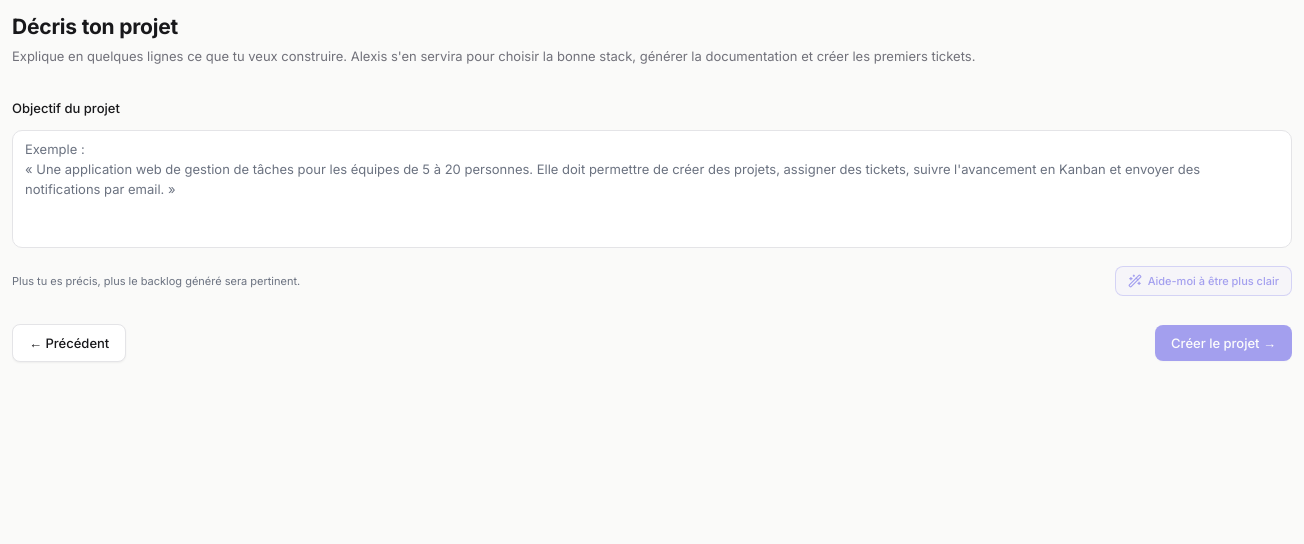
Test: DescriptionPage — bouton Aide-moi à être plus clair › 'Utiliser ce brief' copie dans le textarea et ferme la carte
Step 1. Replace the text in the text box with "une app" → x=652, y=189, box left=12, top=130, right=1292, bottom=248
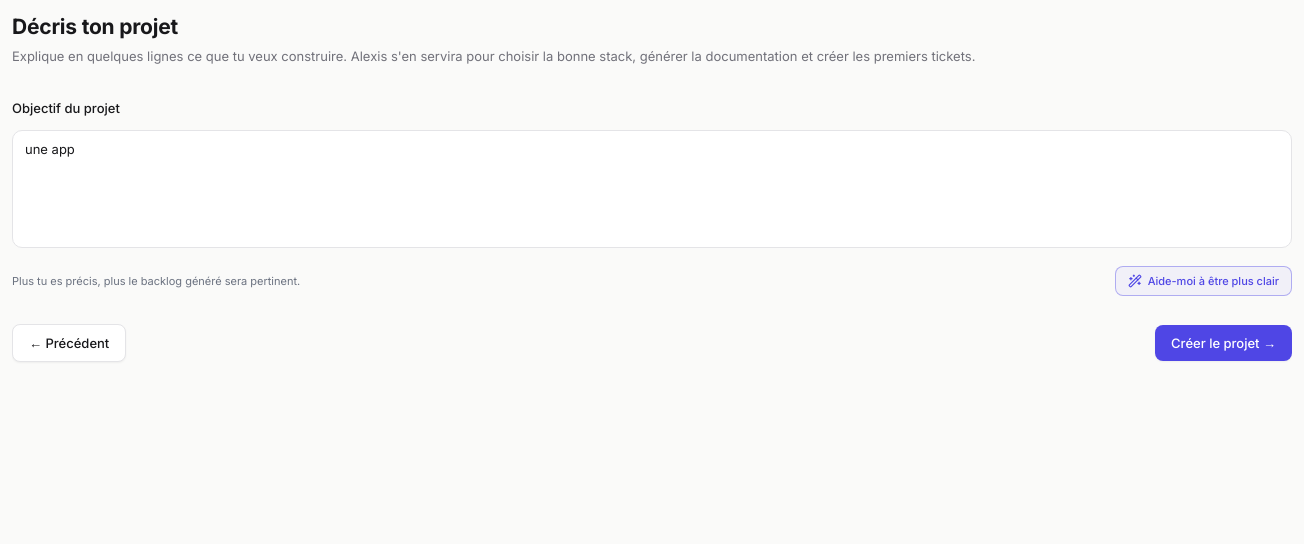
Step 2. Click the button "Aide-moi à être plus clair" → x=1203, y=281, box left=1115, top=266, right=1292, bottom=296
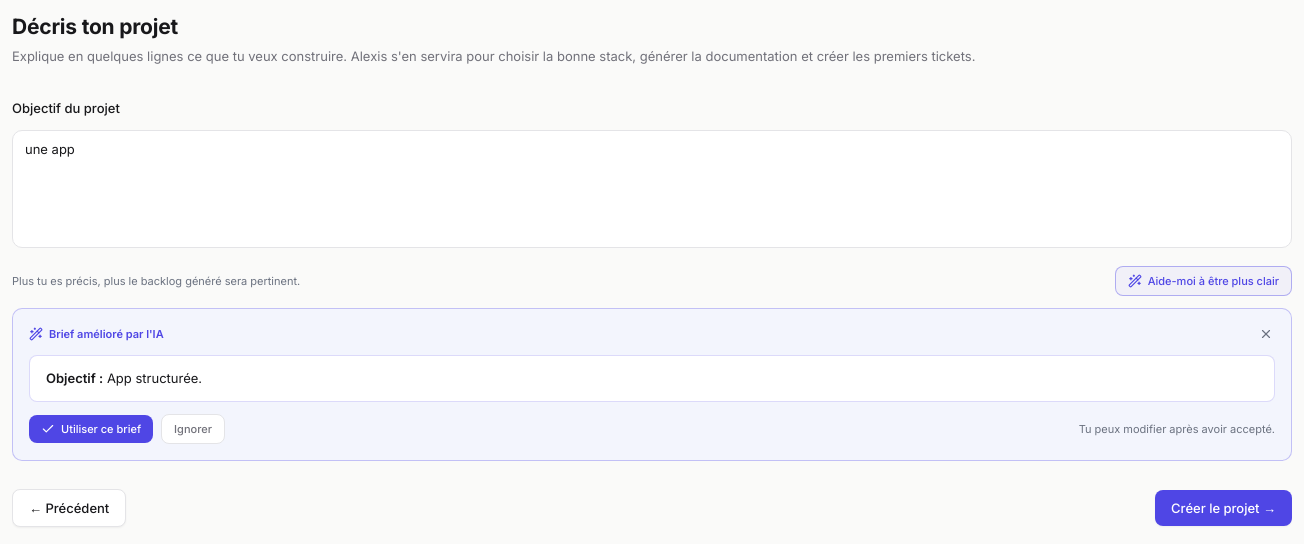
Result: the button "Utiliser ce brief" is shown
Step 3. Click the button "Utiliser ce brief" → x=91, y=429, box left=29, top=415, right=153, bottom=443
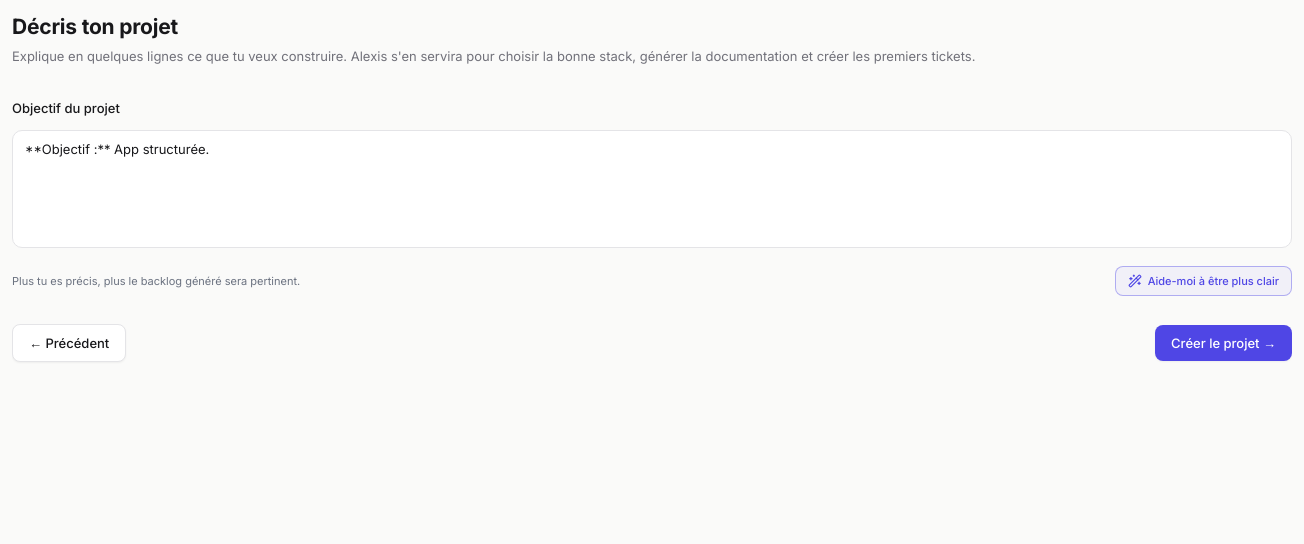
Result: the text "Brief amélioré par l'IA" is gone
Result: the text box holds "**Objectif :** App structurée." at left=12, top=130, right=1292, bottom=248
